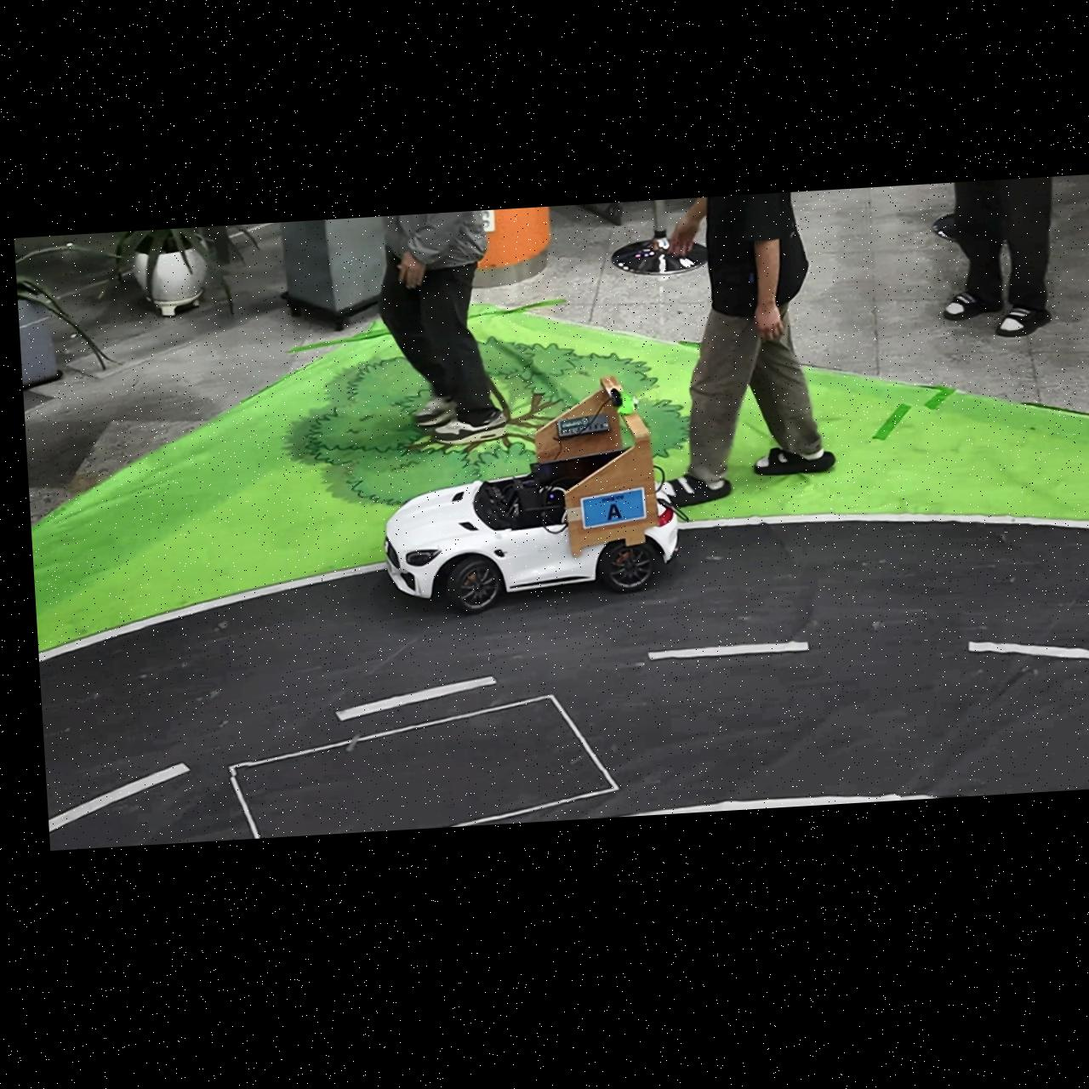broken_line: (49, 763, 189, 831), (336, 676, 496, 721), (648, 641, 809, 660), (968, 643, 1089, 659)
